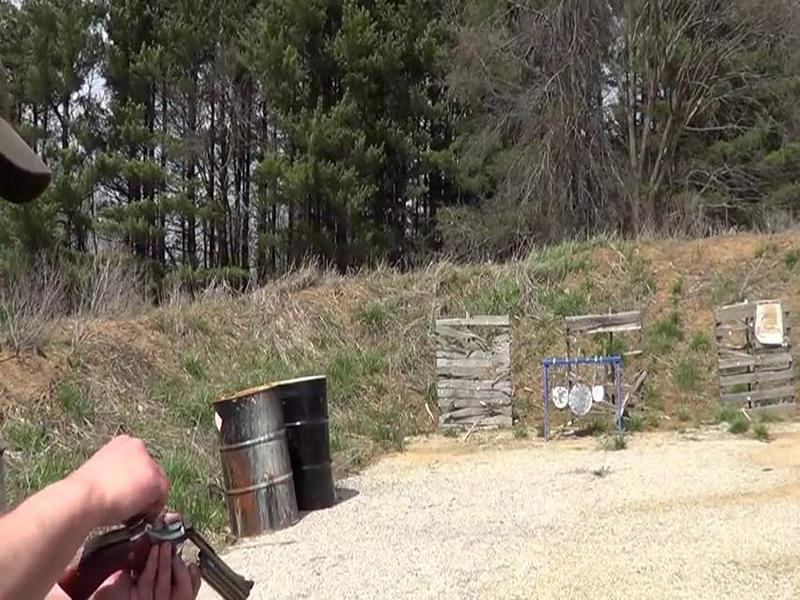Revolver: (47, 490, 257, 600)
